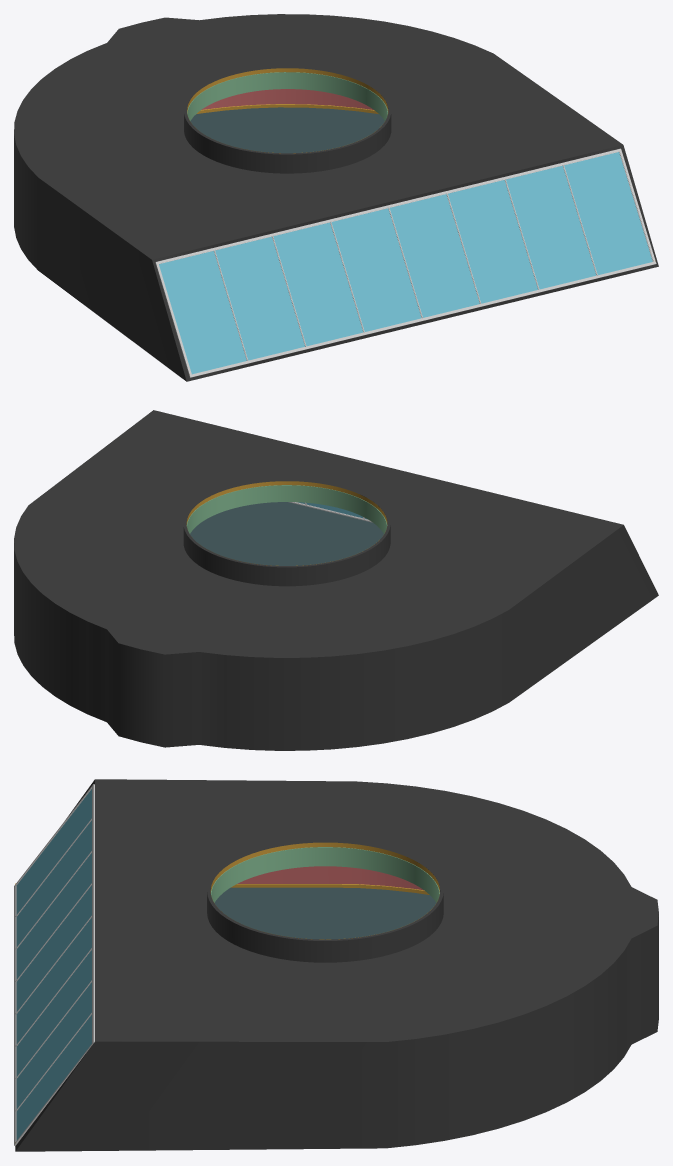
File: Room.fbx
3 views of the same model, one above another, from view 1: azimuth 30°, elevation 25°; view 2: azimuth 150°, elevation 25°; view 3: azimuth 270°, elevation 25° (orthographic). The views are drawn at different scales.
Visible parts, largest first — view 1: Layer, Glass, Floor, Frames, Roof, Wall, Baseboards; view 2: Layer, Floor, Roof; view 3: Layer, Glass, Floor, Roof, Frames, Wall, Baseboards.
Part boxes in pixels (x1=…): Layer: x1=14, y1=14, x2=658, y2=381; Glass: x1=159, y1=152, x2=652, y2=374; Floor: x1=190, y1=107, x2=384, y2=153; Frames: x1=155, y1=148, x2=656, y2=377; Roof: x1=187, y1=68, x2=388, y2=153; Wall: x1=201, y1=89, x2=373, y2=109; Baseboards: x1=197, y1=104, x2=655, y2=261; Layer: x1=14, y1=410, x2=658, y2=750; Floor: x1=190, y1=502, x2=383, y2=565; Roof: x1=186, y1=481, x2=387, y2=565; Layer: x1=15, y1=779, x2=658, y2=1151; Glass: x1=16, y1=789, x2=91, y2=1140; Floor: x1=214, y1=887, x2=436, y2=939; Roof: x1=210, y1=842, x2=439, y2=939; Frames: x1=14, y1=784, x2=94, y2=1145; Wall: x1=237, y1=866, x2=423, y2=890; Baseboards: x1=15, y1=883, x2=429, y2=1142.
Bounding box in the file's own units: 2306 × 531 × 2392.
